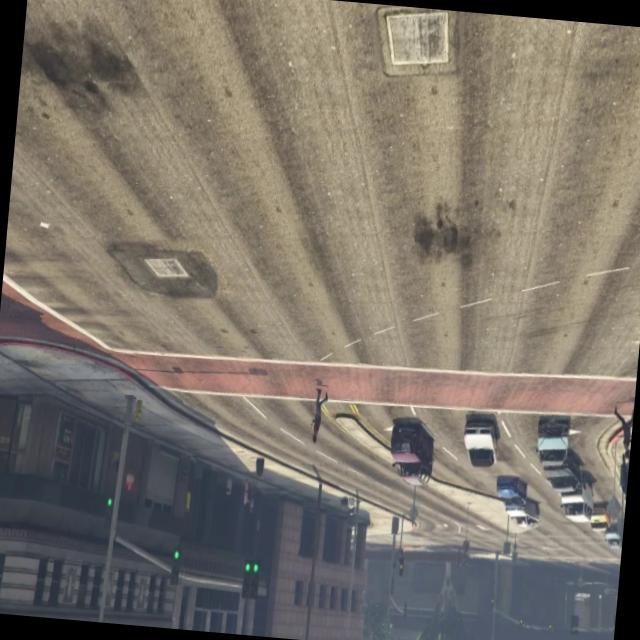Green-Signal: (229, 540, 267, 609), (162, 529, 188, 596), (96, 478, 119, 546)
